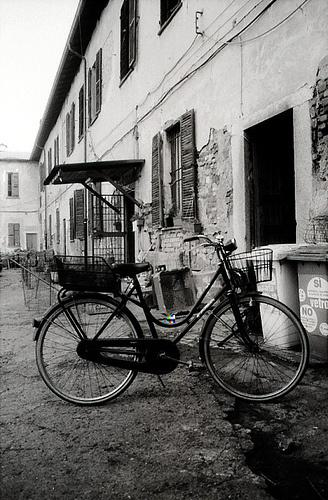car: (32, 232, 311, 407)
